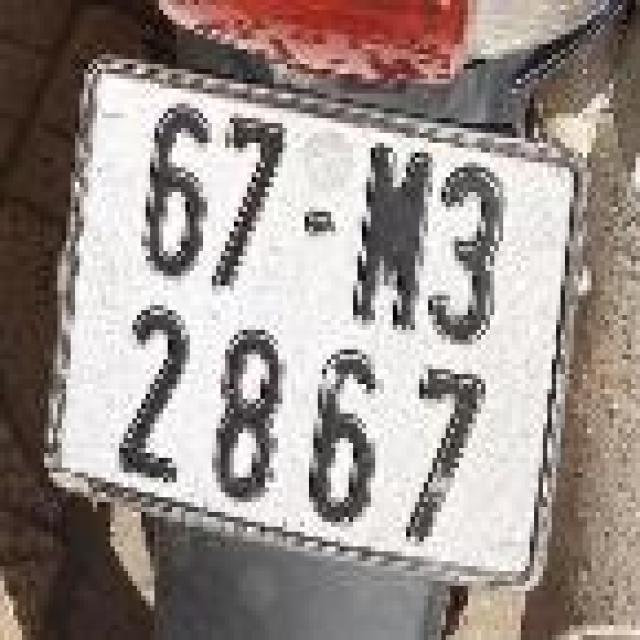2: (117, 298, 201, 490)
3: (435, 153, 514, 354)
6: (139, 96, 219, 288), (309, 339, 388, 526)
7: (398, 355, 494, 566), (212, 88, 291, 290)
8: (201, 322, 289, 510)
M: (342, 118, 435, 350)
